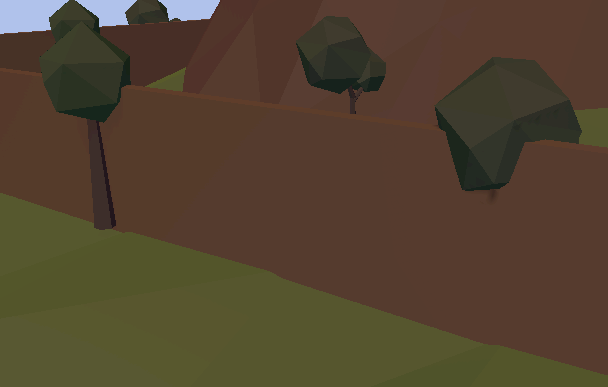tree: (430, 55, 589, 193), (34, 21, 132, 229), (294, 14, 388, 121), (48, 2, 103, 37), (121, 1, 175, 27)
